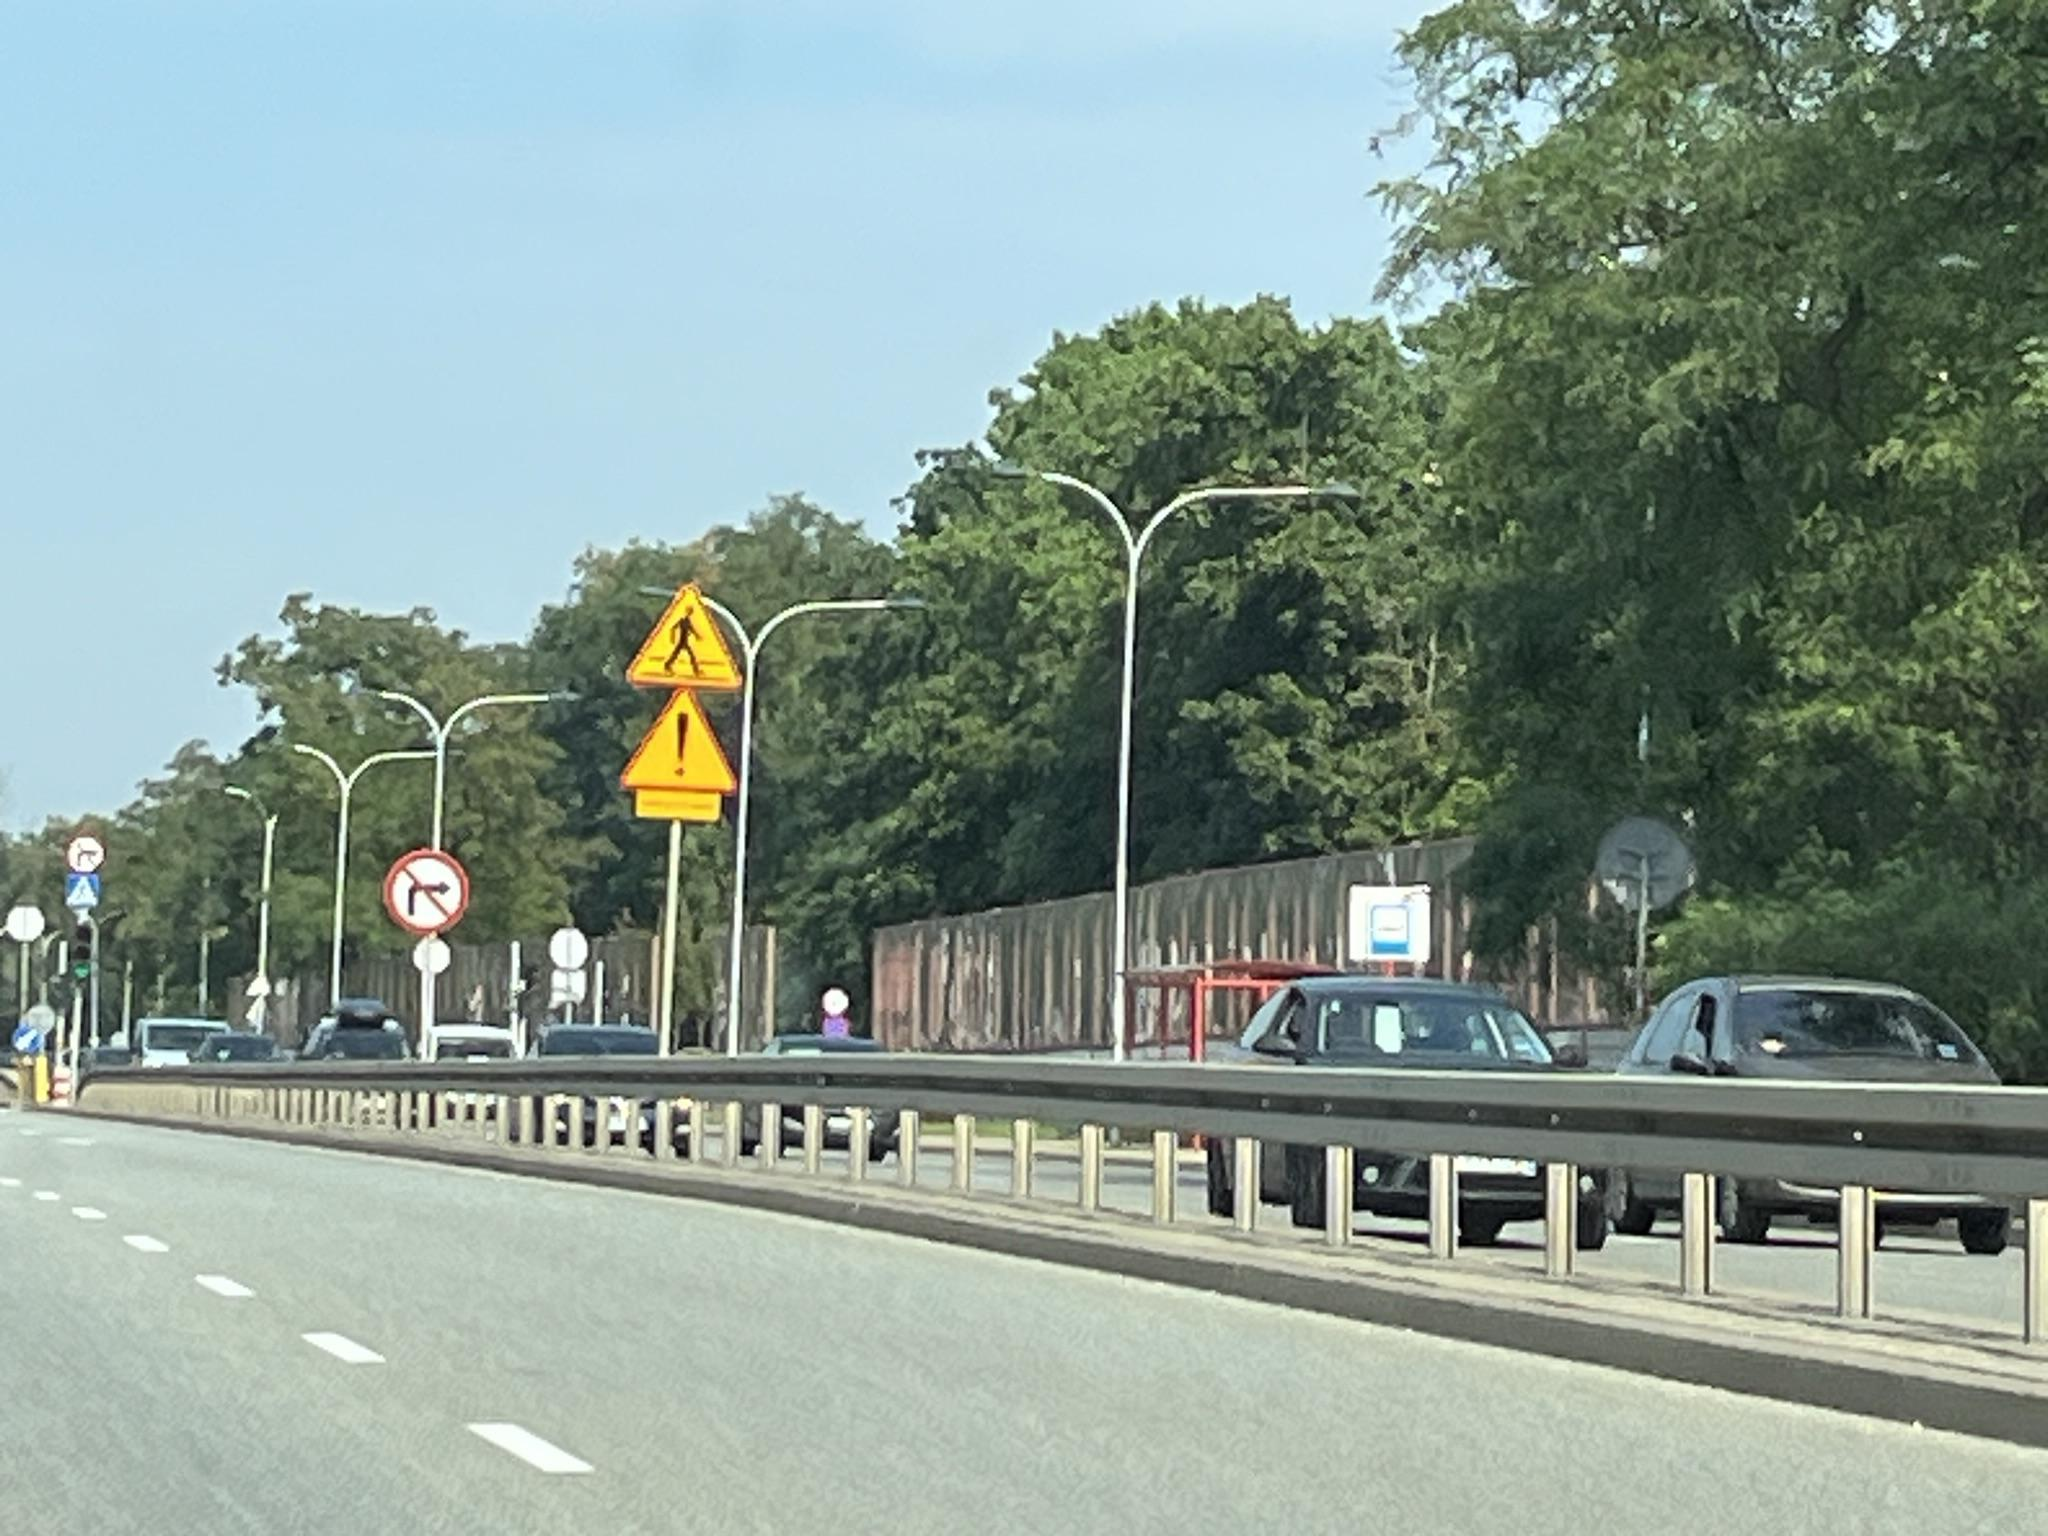information: (65, 874, 98, 907)
mandatory: (10, 1023, 40, 1055)
other: (637, 791, 721, 821)
prohibitory: (382, 847, 471, 936), (65, 833, 108, 871), (819, 1013, 848, 1037)
warning: (622, 581, 742, 687), (619, 689, 739, 794)
